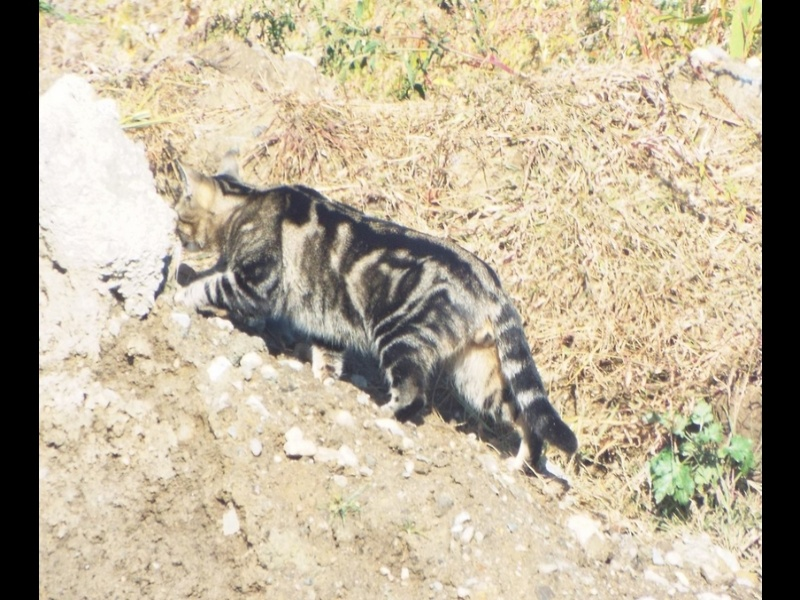cat: (166, 158, 580, 490)
